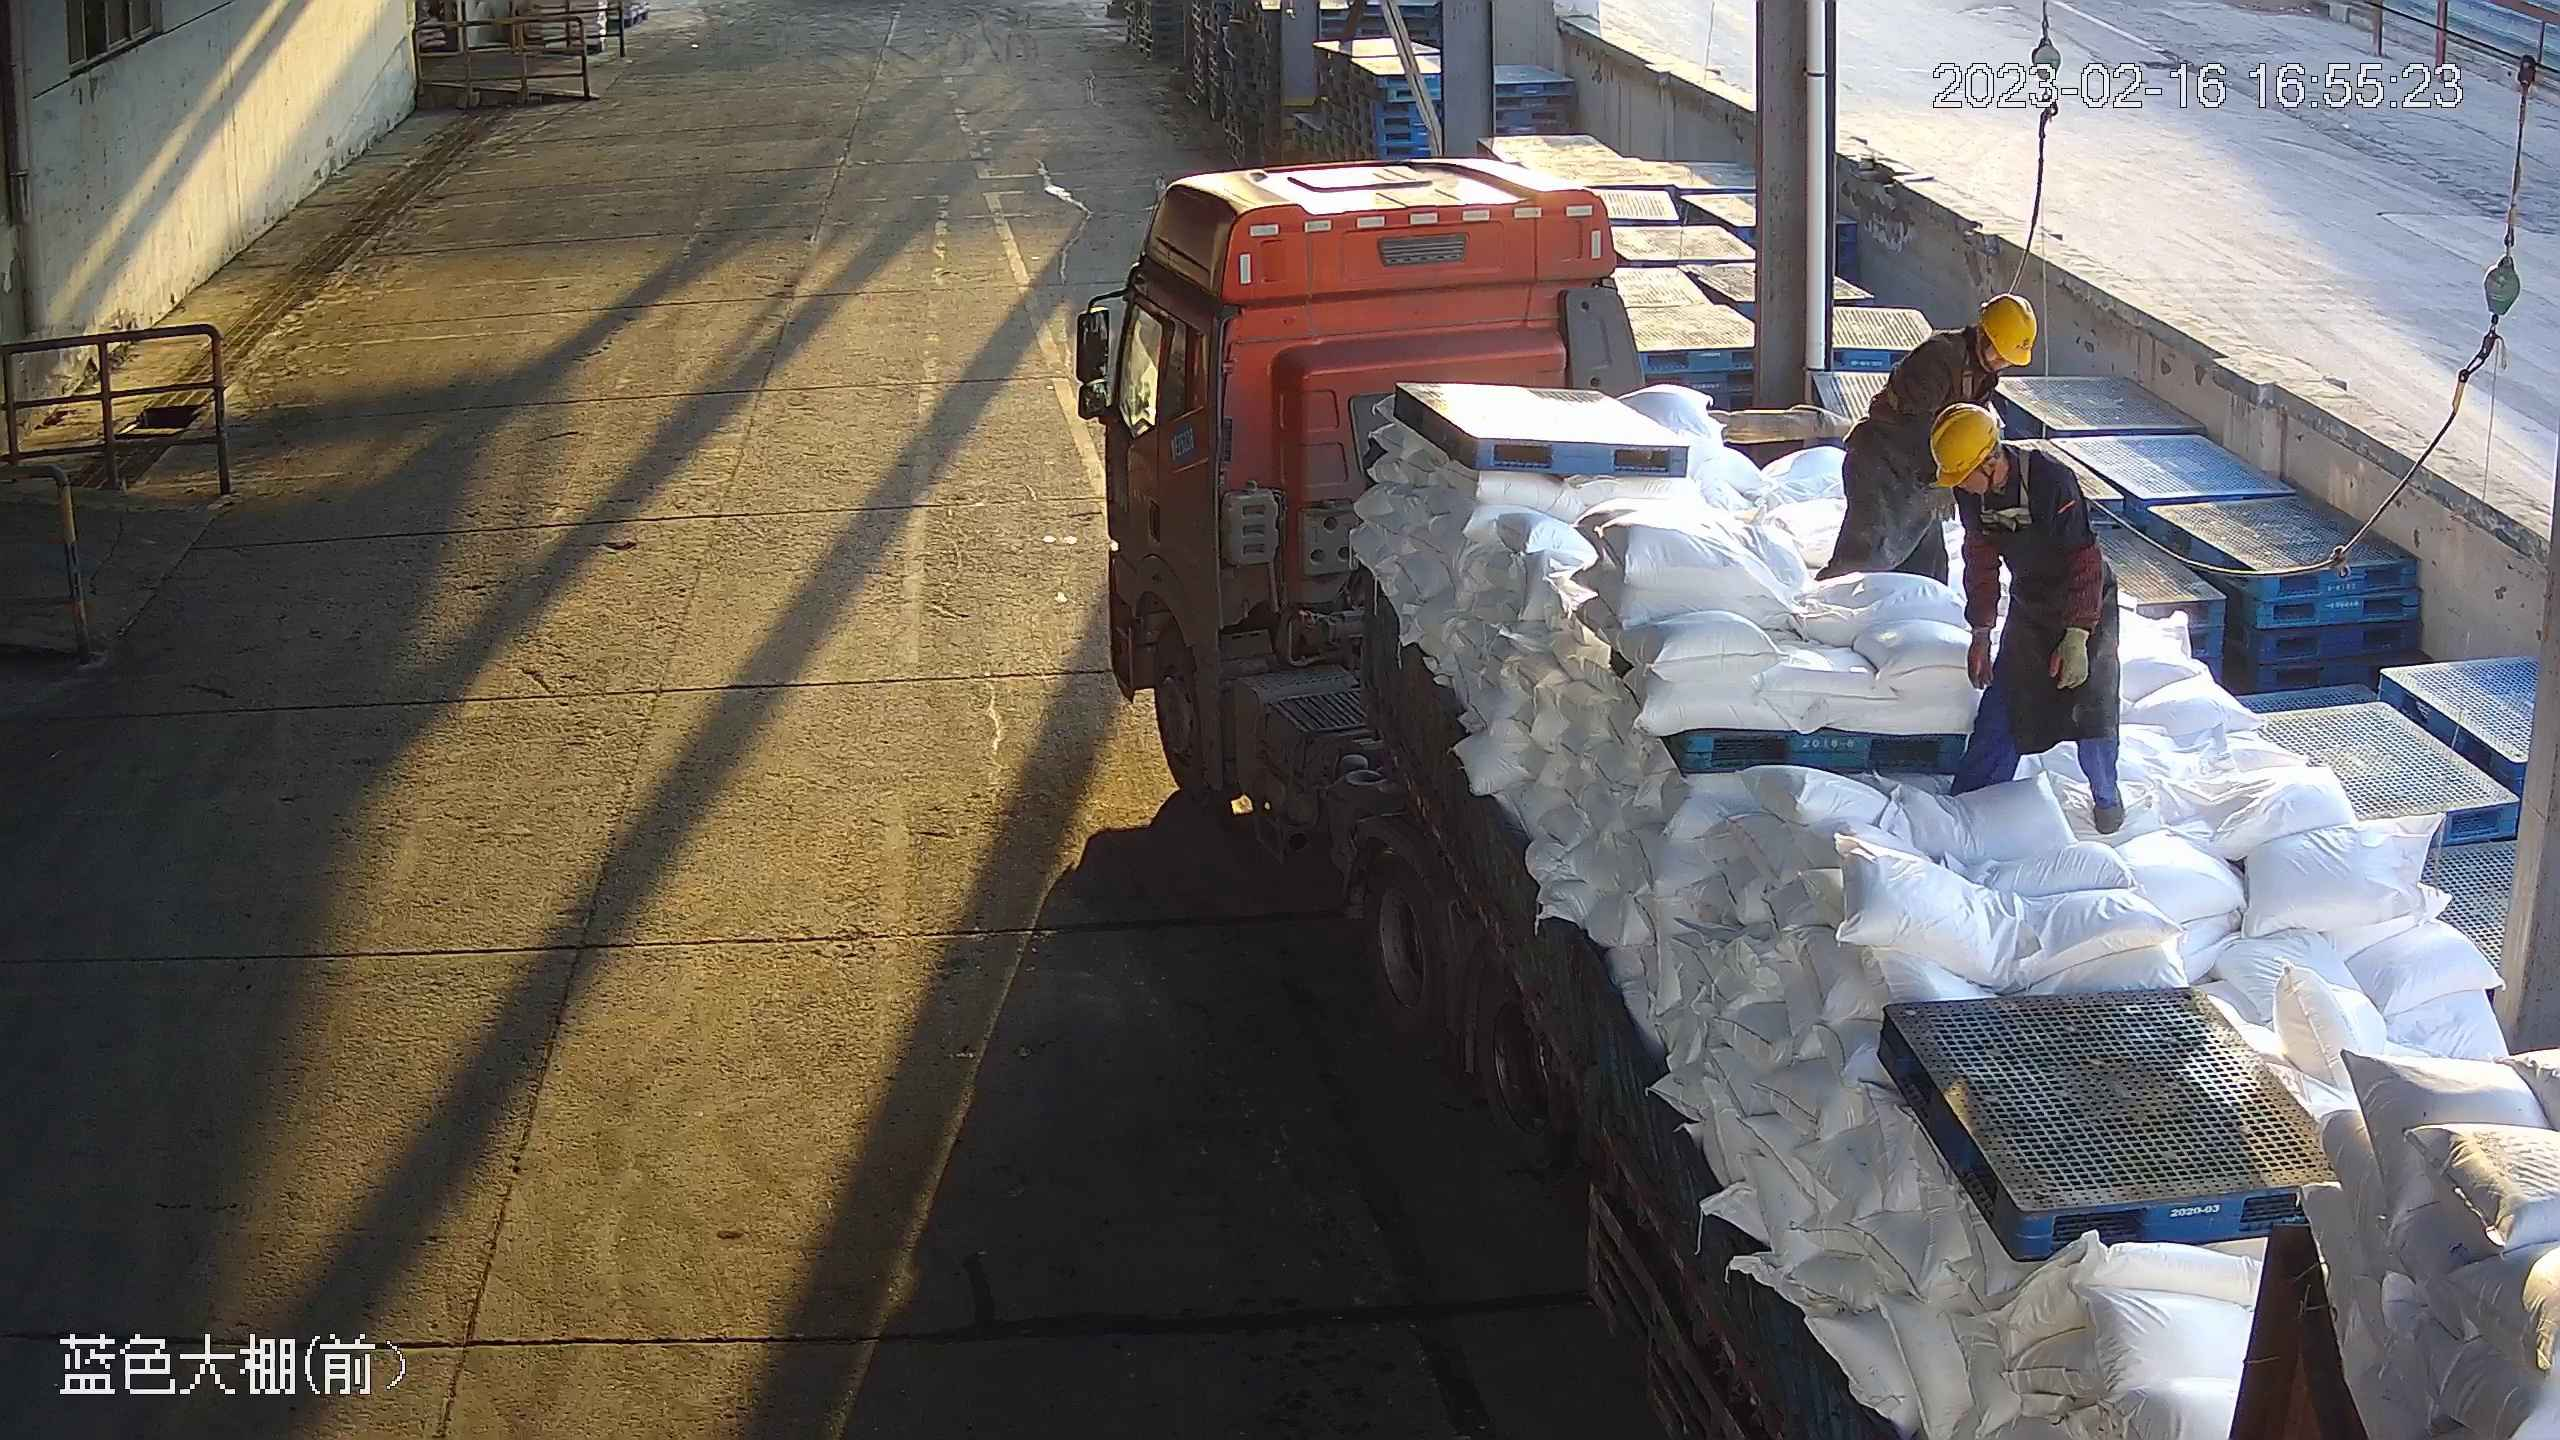belt: (1975, 446, 2042, 534), (1953, 357, 1990, 401)
head: (1936, 408, 2085, 534), (1892, 288, 2046, 404)
helmet: (1981, 292, 2057, 375), (1923, 408, 1996, 486)
people: (1925, 401, 2149, 831), (1838, 279, 2038, 623)
truck: (1079, 157, 2560, 1440)
